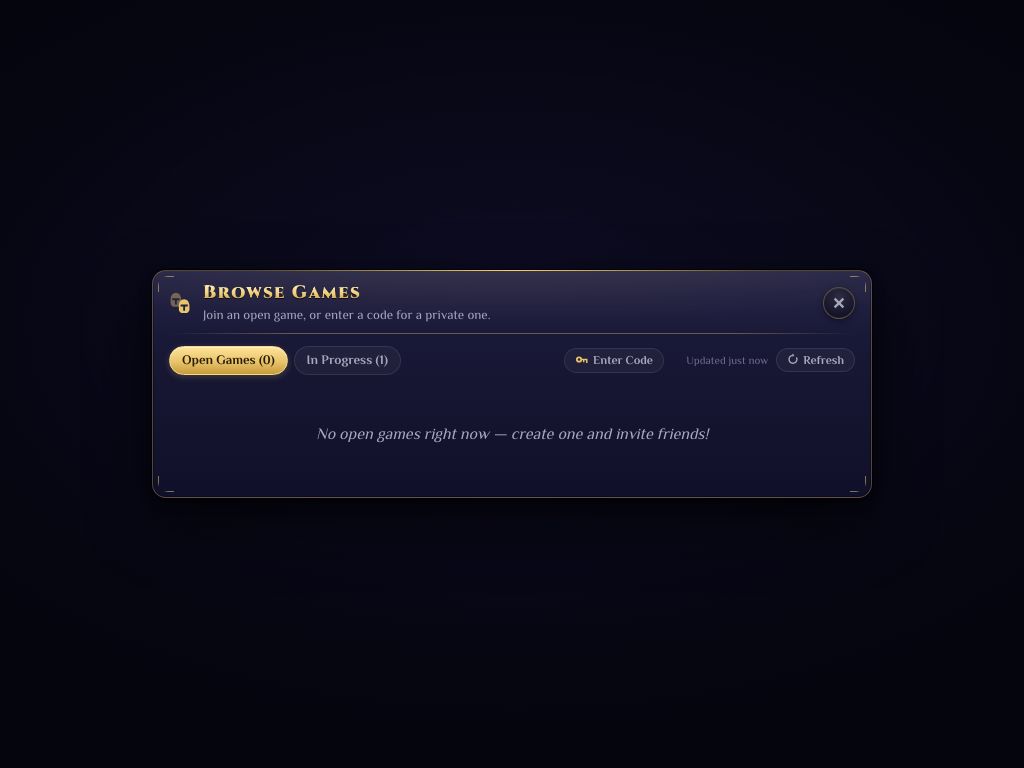
Test: LobbyBrowser › shows games in progress with the round and the leader
Click the tab "In Progress (1)": (347, 360) [294,346,401,375]
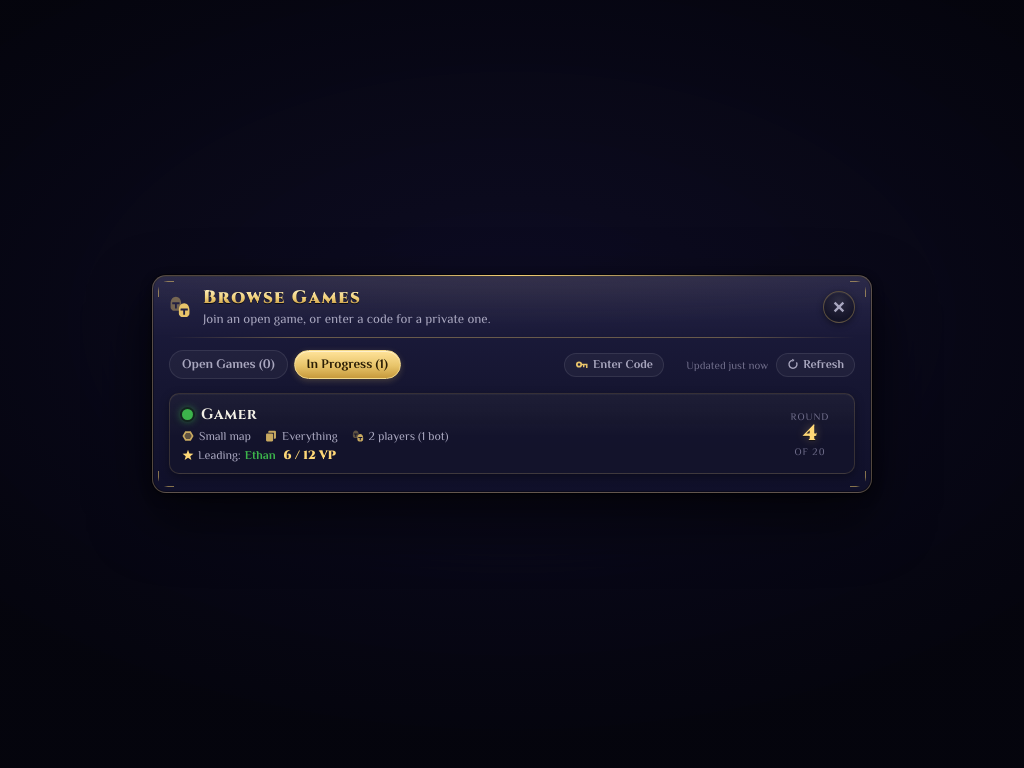
Result: the text "Gamer" is shown at [201,404,257,425]
Result: the text "Ethan" is shown at [245,448,276,462]
Result: the text "6 / 12 VP" is shown at [284,447,336,463]
